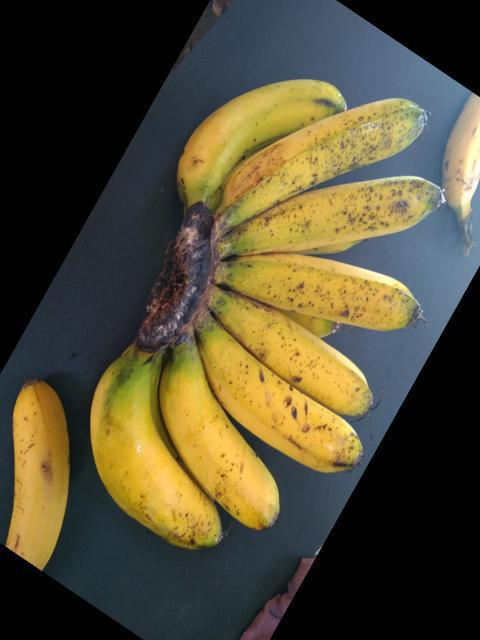ripe: (70, 331, 218, 560), (208, 95, 419, 236), (184, 323, 356, 466), (163, 256, 423, 347), (197, 292, 379, 416), (167, 48, 324, 185), (158, 359, 278, 530), (221, 172, 434, 262), (0, 352, 80, 574)
